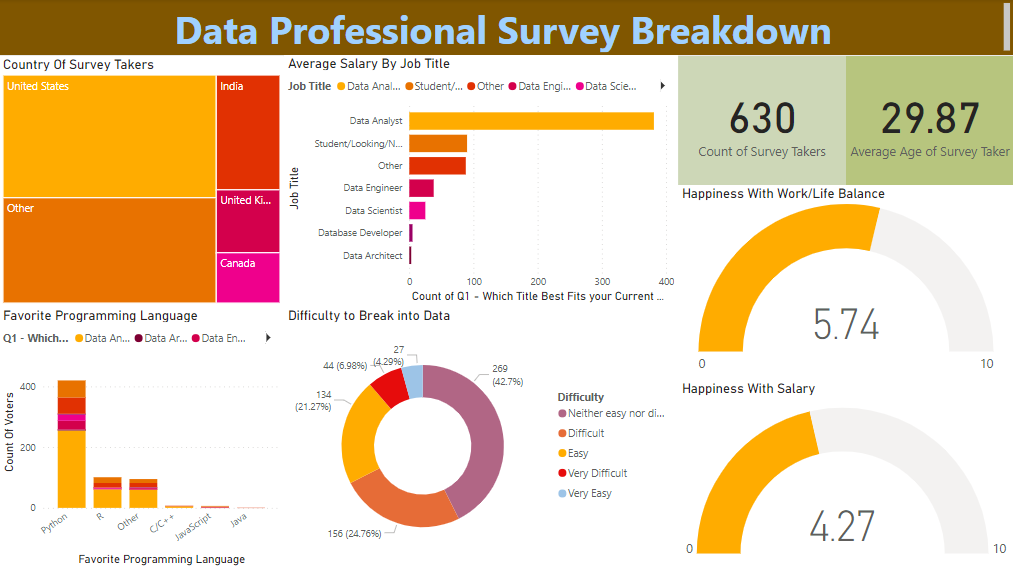

What the dashboard file says about the page in this screenshot:
{"tool":"powerbi","page":{"name":"Page 1","canvas":[1280,720],"ordinal":0},"visuals":[{"type":"textbox","box":[0,0,1280,71.9],"z":0},{"type":"card","fields":{"Values":["Count(Data Professional Survey.Unique ID)"]},"box":[856.3,71.9,211.9,162.7],"z":1},{"type":"card","fields":{"Values":["Avg(Data Professional Survey.Q10 - Current Age)"]},"box":[1068.1,71.9,211.9,162.7],"z":2},{"type":"barChart","title":"Average Salary By Job Title","fields":{"Category":["Data Professional Survey.Q1 - Which Title Best Fits your Current Role?.1"],"Y":["CountNonNull(Data Professional Survey.Q1 - Which Title Best Fits your Current Role?.1)"],"Series":["Data Professional Survey.Q1 - Which Title Best Fits your Current Role?.1"]},"box":[359.4,70.6,496.9,317.8],"z":3},{"type":"columnChart","title":"Favorite Programming Language","fields":{"Category":["Data Professional Survey.Q5 - Favorite Programming Language.1"],"Y":["CountNonNull(Data Professional Survey.Unique ID)"],"Series":["Data Professional Survey.Q1 - Which Title Best Fits your Current Role?.1"]},"box":[0,388.4,359.4,331.7],"z":4},{"type":"treemap","title":"Country Of Survey Takers","fields":{"Group":["Data Professional Survey.Q11 - Which Country do you live in?.1"],"Values":["CountNonNull(Data Professional Survey.Q11 - Which Country do you live in?.1)"]},"box":[0,71.9,359.4,316.5],"z":5},{"type":"gauge","title":"Happiness With Work/Life Balance","fields":{"Y":["Avg(Data Professional Survey.Q6 - How Happy are you in your Current Position with the following? (Work/Life Balance))"],"MinValue":["Min(Data Professional Survey.Q6 - How Happy are you in your Current Position with the following? (Work/Life Balance))1"],"MaxValue":["Max(Data Professional Survey.Q6 - How Happy are you in your Current Position with the following? (Work/Life Balance))2"]},"box":[856.3,234.6,423.7,245.9],"z":6},{"type":"gauge","title":"Happiness With Salary","fields":{"Y":["Avg(Data Professional Survey.Q6 - How Happy are you in your Current Position with the following? (Salary))"],"MinValue":["Min(Data Professional Survey.Q6 - How Happy are you in your Current Position with the following? (Salary))"],"MaxValue":["Max(Data Professional Survey.Q6 - How Happy are you in your Current Position with the following? (Salary))"]},"box":[856.3,480.5,423.7,239.6],"z":7},{"type":"donutChart","title":"Difficulty to Break into Data","fields":{"Category":["Data Professional Survey.Q7 - How difficult was it for you to break into Data?"],"Y":["CountNonNull(Data Professional Survey.Q7 - How difficult was it for you to break into Data?)"]},"box":[359.4,388.4,496.9,331.7],"z":8}]}

Visuals, with their boxes in screenshot pixels (x1, y1, x2, y2), scaled from the page's 1280x720 canvas onto the 1013x568 screenshot:
textbox: [0,0,1012,57]
card - Count(Data Professional Survey.Unique ID): [678,57,845,185]
card - Avg(Data Professional Survey.Q10 - Current Age): [845,57,1012,185]
"Average Salary By Job Title" barChart: [284,56,678,306]
"Favorite Programming Language" columnChart: [0,306,284,567]
"Country Of Survey Takers" treemap: [0,57,284,306]
"Happiness With Work/Life Balance" gauge: [678,185,1012,379]
"Happiness With Salary" gauge: [678,379,1012,567]
"Difficulty to Break into Data" donutChart: [284,306,678,567]
